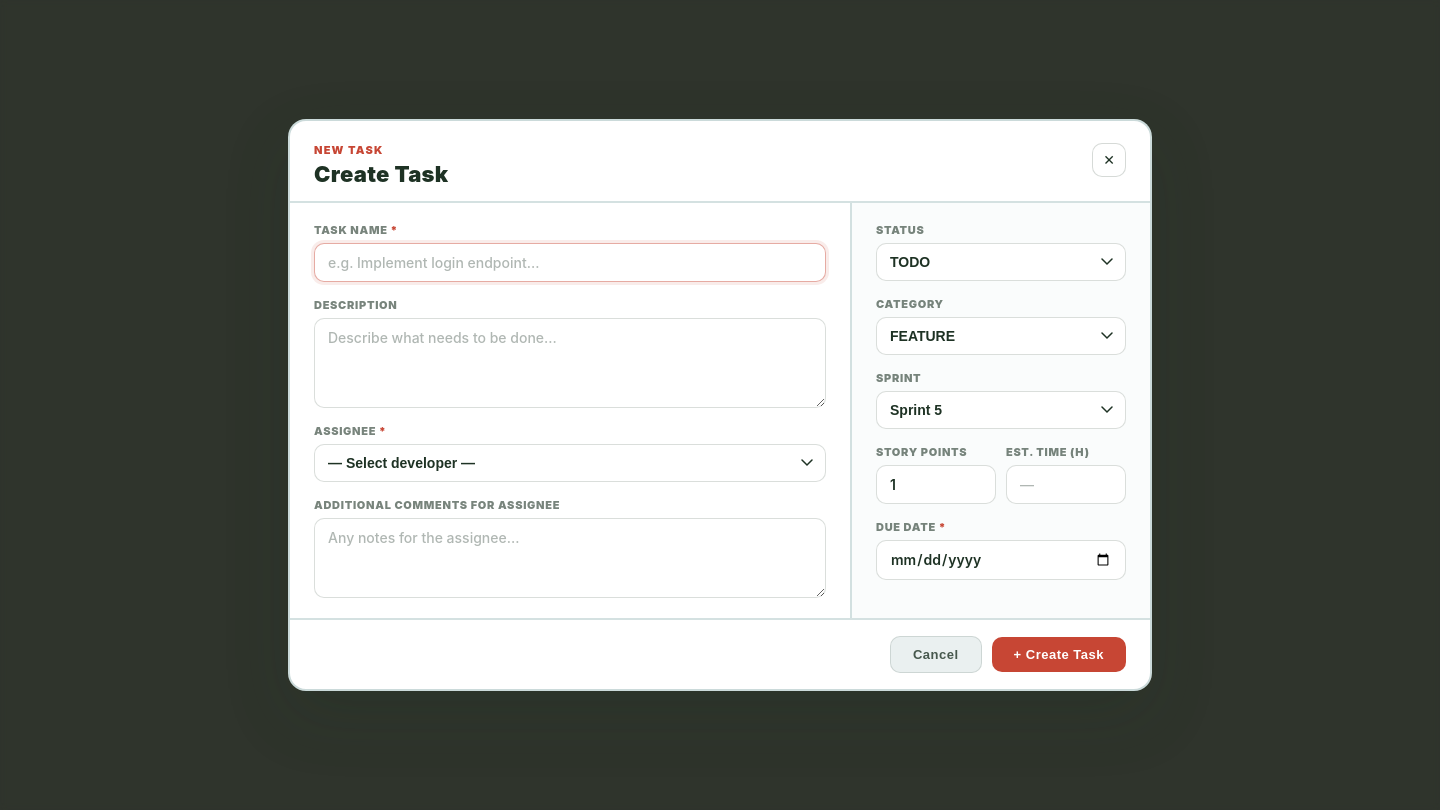
CreateTaskModal › renders the form fields and blocks submission when required fields are missing
The image size is (1440, 810).
Expected: the heading "Create Task" is shown, [314,161,448,187]
Expected: the field with placeholder "e.g. Implement login endpoint…" is shown, [314,243,826,282]
Click the button "+ Create Task" at x=1059, y=654, box [992,637,1126,672]
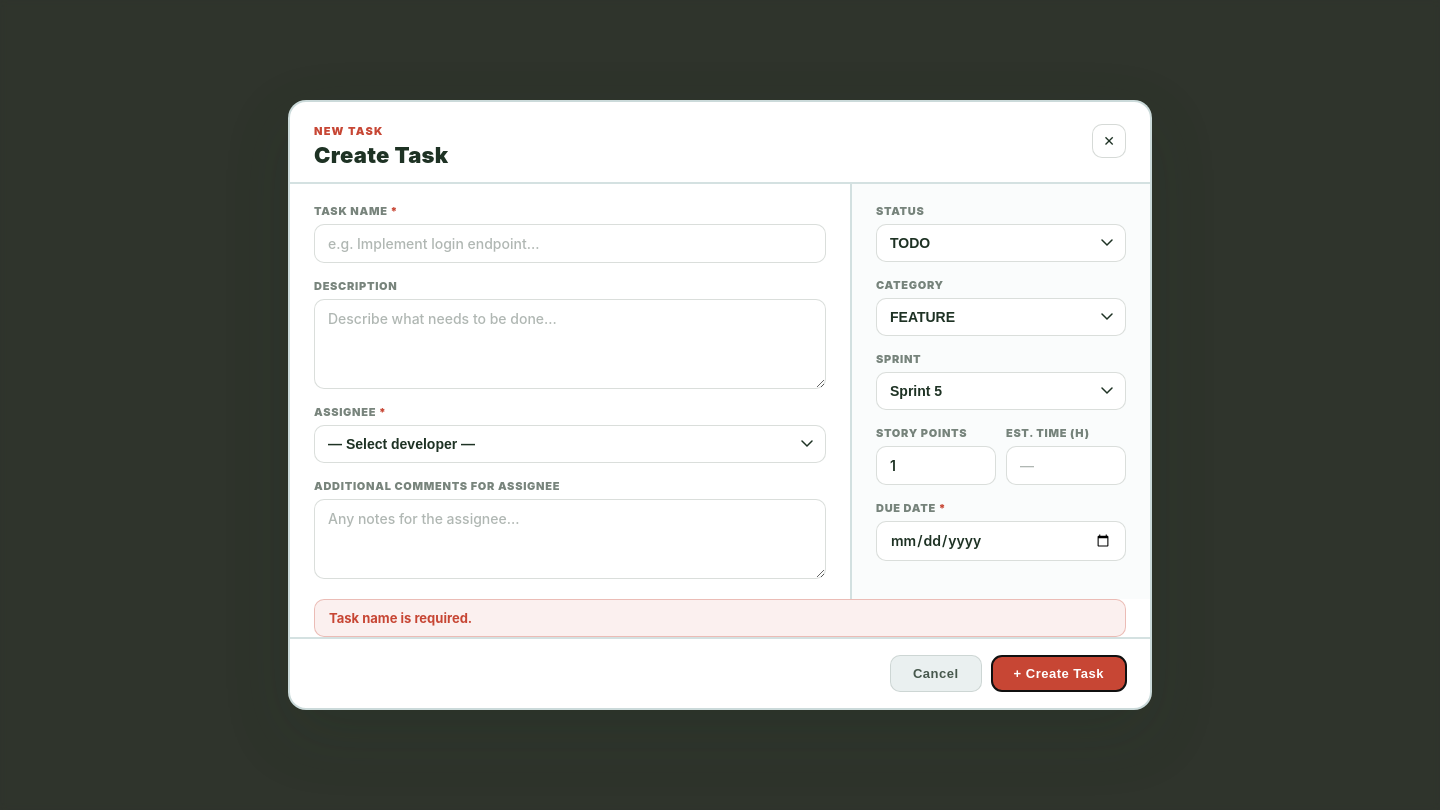
Expected: the text "Task name is required." is shown, [314,599,1126,637]
